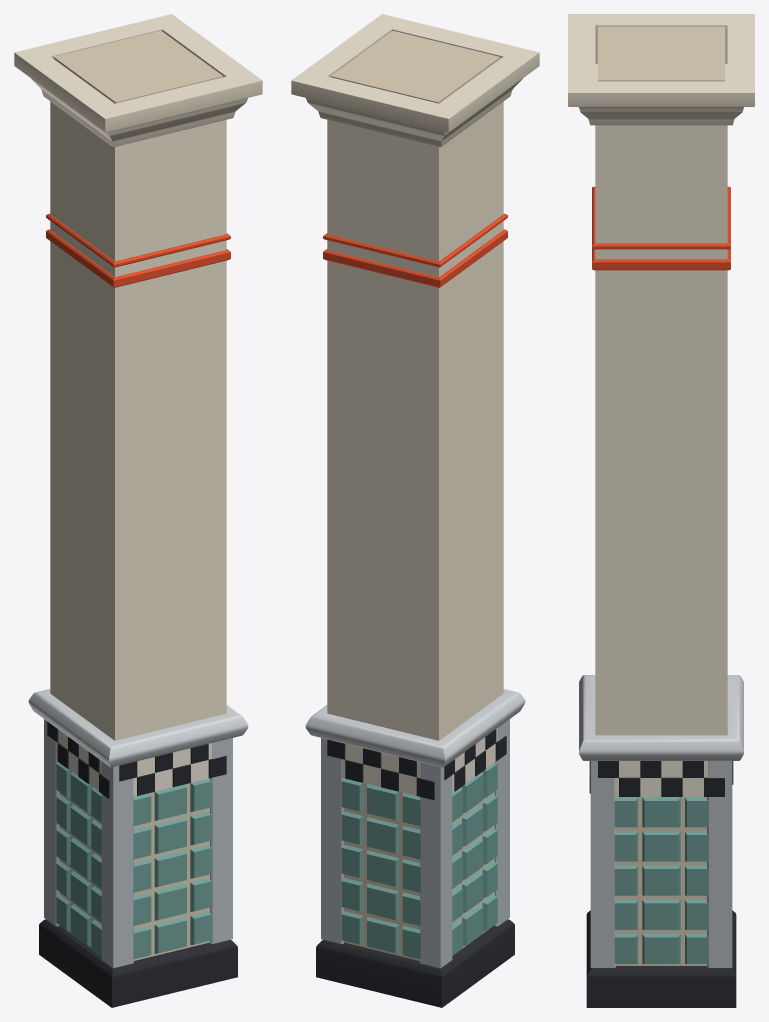
The model's file is Shop_WallCorner.fbx.
3 views of the same model, side by side, from view 1: azimuth 30°, elevation 25°; view 2: azimuth 150°, elevation 25°; view 3: azimuth 270°, elevation 25° (orthographic). The views are drawn at different scales.
Visible parts, largest first — view 1: Upper, Tiles, CornerGuard, Baseboard, Core, ChairRail, Stripe, Grout, CheckerDark, CheckerLight; view 2: Upper, Tiles, CornerGuard, Baseboard, Core, ChairRail, Stripe, Grout, CheckerDark, CheckerLight; view 3: Upper, Tiles, CornerGuard, Core, Baseboard, ChairRail, Grout, Stripe, CheckerDark, CheckerLight.
Boxes of the visible parts, bbox=[...] form: Upper: bbox=[14, 14, 262, 740]; Tiles: bbox=[56, 762, 212, 959]; CornerGuard: bbox=[44, 719, 232, 968]; Baseboard: bbox=[39, 919, 237, 1007]; Core: bbox=[53, 31, 223, 103]; ChairRail: bbox=[28, 689, 248, 767]; Stripe: bbox=[46, 213, 230, 287]; Grout: bbox=[59, 771, 209, 960]; CheckerDark: bbox=[47, 721, 226, 798]; CheckerLight: bbox=[56, 729, 212, 796]; Upper: bbox=[291, 14, 539, 740]; Tiles: bbox=[341, 762, 497, 959]; CornerGuard: bbox=[321, 719, 509, 968]; Baseboard: bbox=[316, 919, 514, 1007]; Core: bbox=[330, 31, 500, 103]; ChairRail: bbox=[305, 689, 525, 767]; Stripe: bbox=[323, 213, 507, 287]; Grout: bbox=[344, 772, 494, 960]; CheckerDark: bbox=[327, 729, 506, 800]; CheckerLight: bbox=[341, 728, 497, 795]; Upper: bbox=[568, 14, 754, 735]; Tiles: bbox=[614, 797, 708, 963]; CornerGuard: bbox=[590, 761, 732, 967]; Core: bbox=[598, 26, 724, 81]; Baseboard: bbox=[586, 910, 736, 1007]; ChairRail: bbox=[579, 675, 743, 760]; Grout: bbox=[616, 797, 706, 965]; Stripe: bbox=[592, 186, 730, 270]; CheckerDark: bbox=[589, 761, 733, 796]; CheckerLight: bbox=[614, 761, 708, 796].
Bounding box in the file's own units: 220 × 1200 × 220.
